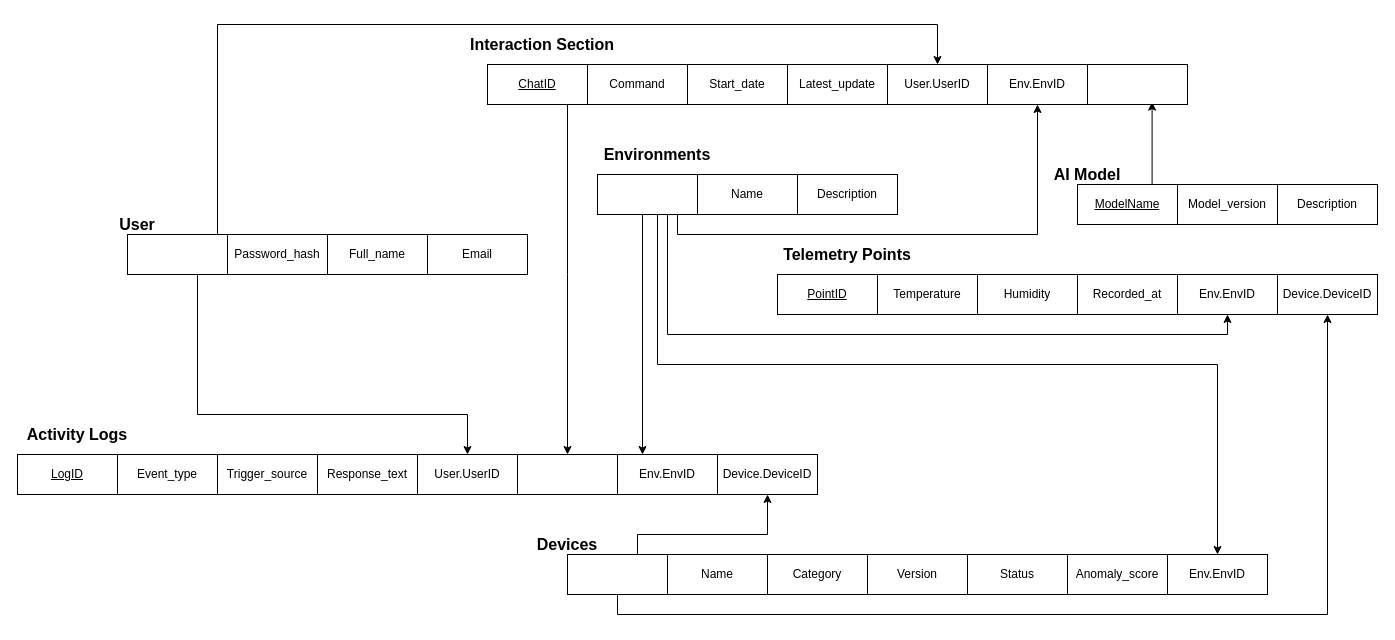
The diagram is 1395 pixels wide and 640 high, and some of its shapes have lost their labels. The shapes that lost their labels are listed below. From the top down, each one's centre as x and y in pixels, then its label:
point 1137,84: Model.ModelID
point 647,194: EnvID
point 177,254: UserID
point 567,474: IS.ChatID
point 617,574: DeviceID
